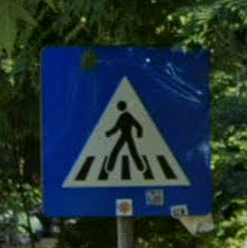trecere_pietoni: (38, 38, 216, 220)
